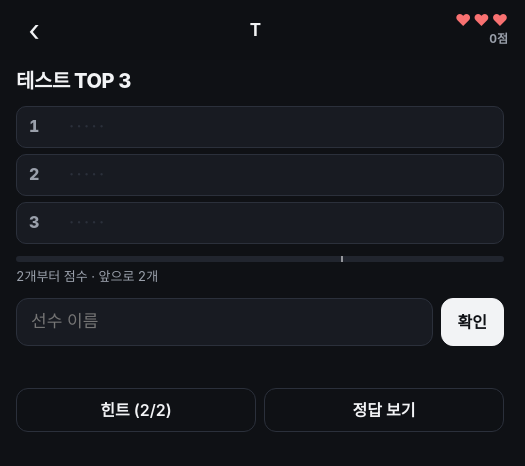
Test: Top10Game › 정답 보기: 두 번 눌러야 공개
The image size is (525, 466).
Click the button "정답 보기". click: (384, 410)
box: [264,388,504,432]
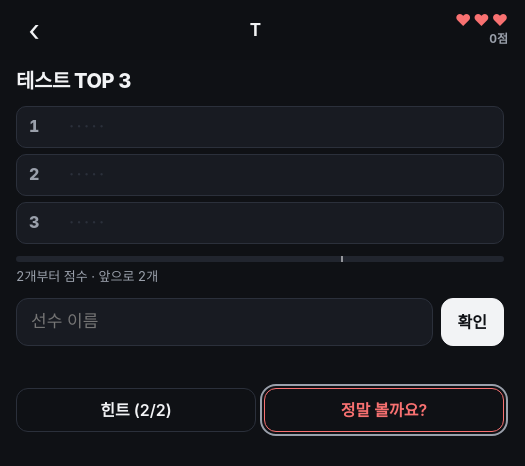
Expected: the text "정답 공개" is not shown
Click the button "정말 볼까요?". click: (384, 410)
box: [264,388,504,432]
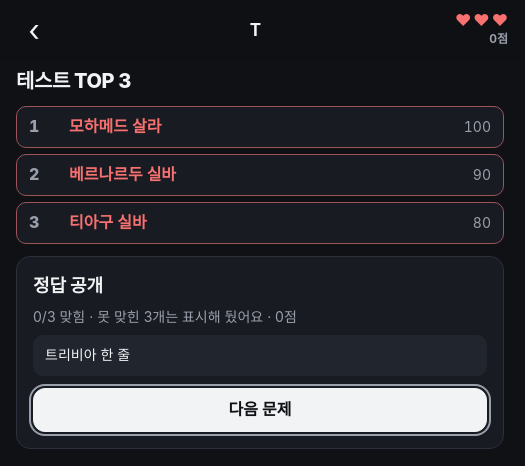
Expected: the heading "정답 공개" is shown, [33,275,103,296]
Expected: the text "티아구 실바" is shown, [69,212,147,232]
